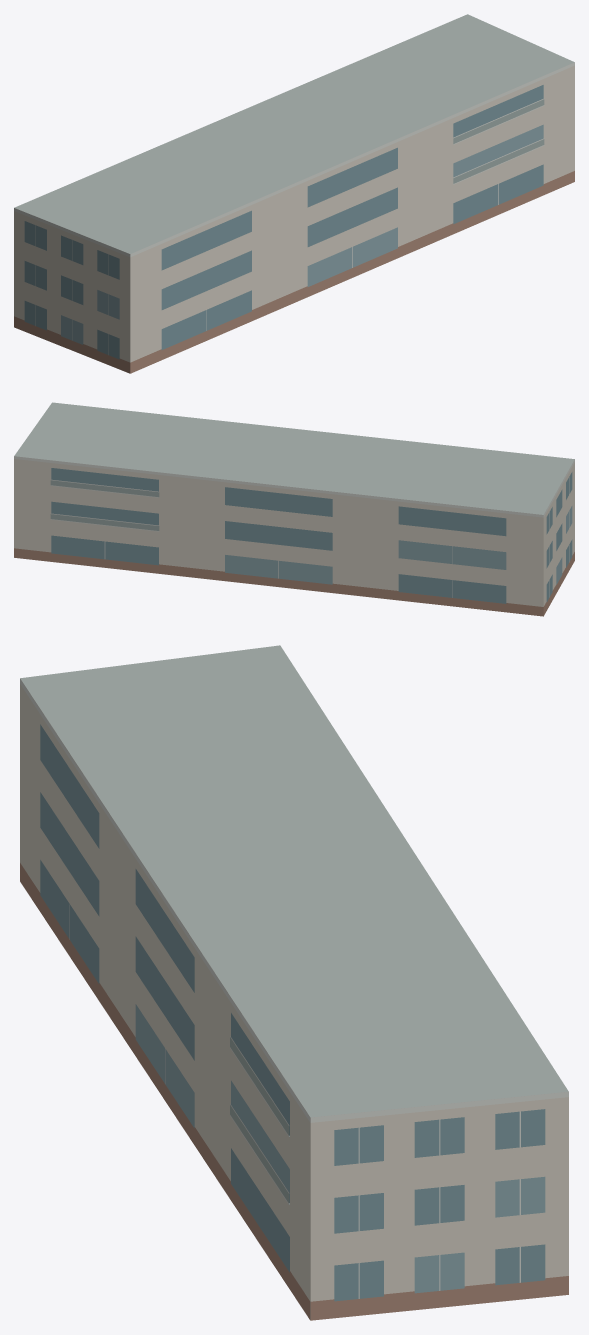
File: survey-upis-32471122.glb
3 renders of one model, top to bottom at view 1: azimuth 30°, elevation 25°; view 2: azimuth 150°, elevation 25°; view 3: azimuth 270°, elevation 25°, orthographic. The views are drawn at different scales.
Parts seen in each view (by area): view 1: survey-upis-32471122.tmp; view 2: survey-upis-32471122.tmp; view 3: survey-upis-32471122.tmp.
Boxes of the visible parts, x1,y1,x2,y2 form: survey-upis-32471122.tmp: (14, 14, 574, 373); survey-upis-32471122.tmp: (14, 402, 574, 616); survey-upis-32471122.tmp: (20, 645, 568, 1320).
Size of the model in its own units: 45.63 by 9.15 by 22.42.
